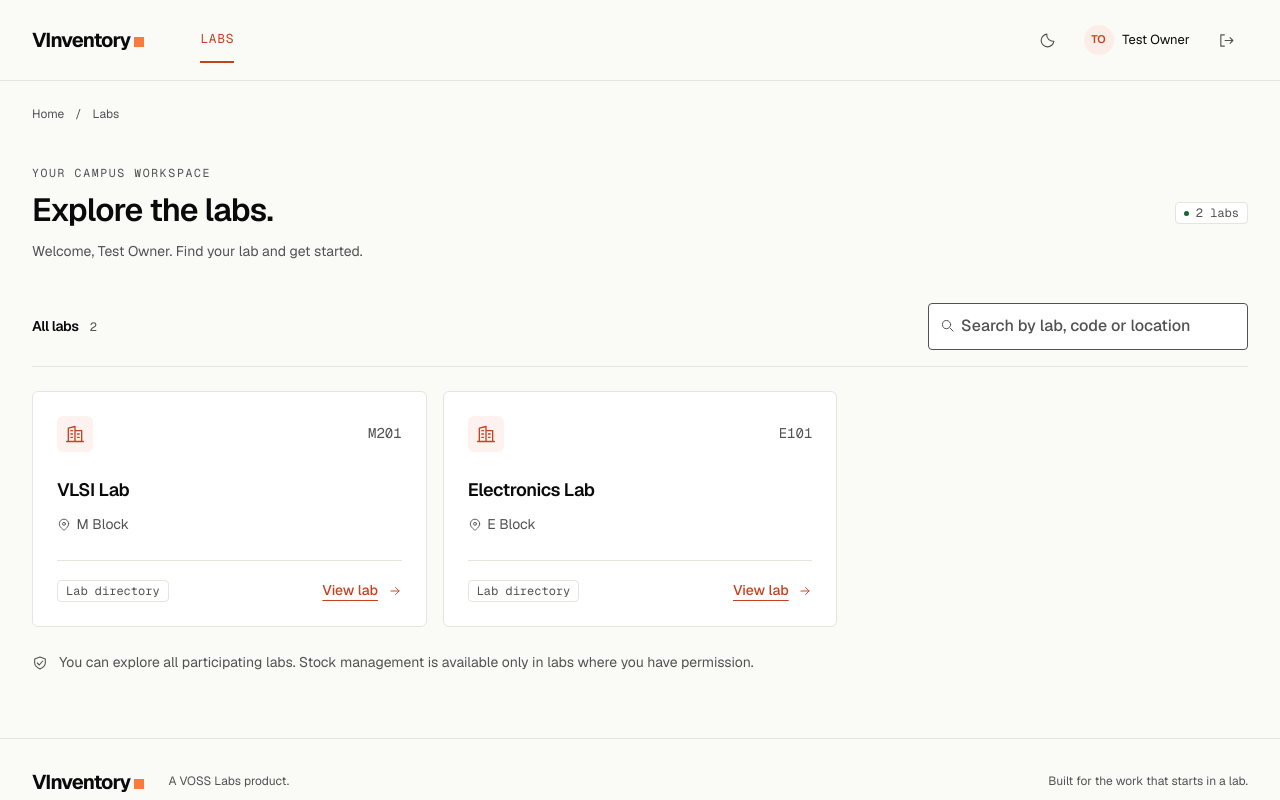
Test: landing and authenticated workspace › loads and filters real lab records after authentication
The width and height of the screenshot is (1280, 800).
Check: the heading "Explore the labs." is shown, box [32,189,273,230]
Step 1. Type "e block" into the search field named "Search labs" → (1088, 326), box [928,303,1248,350]
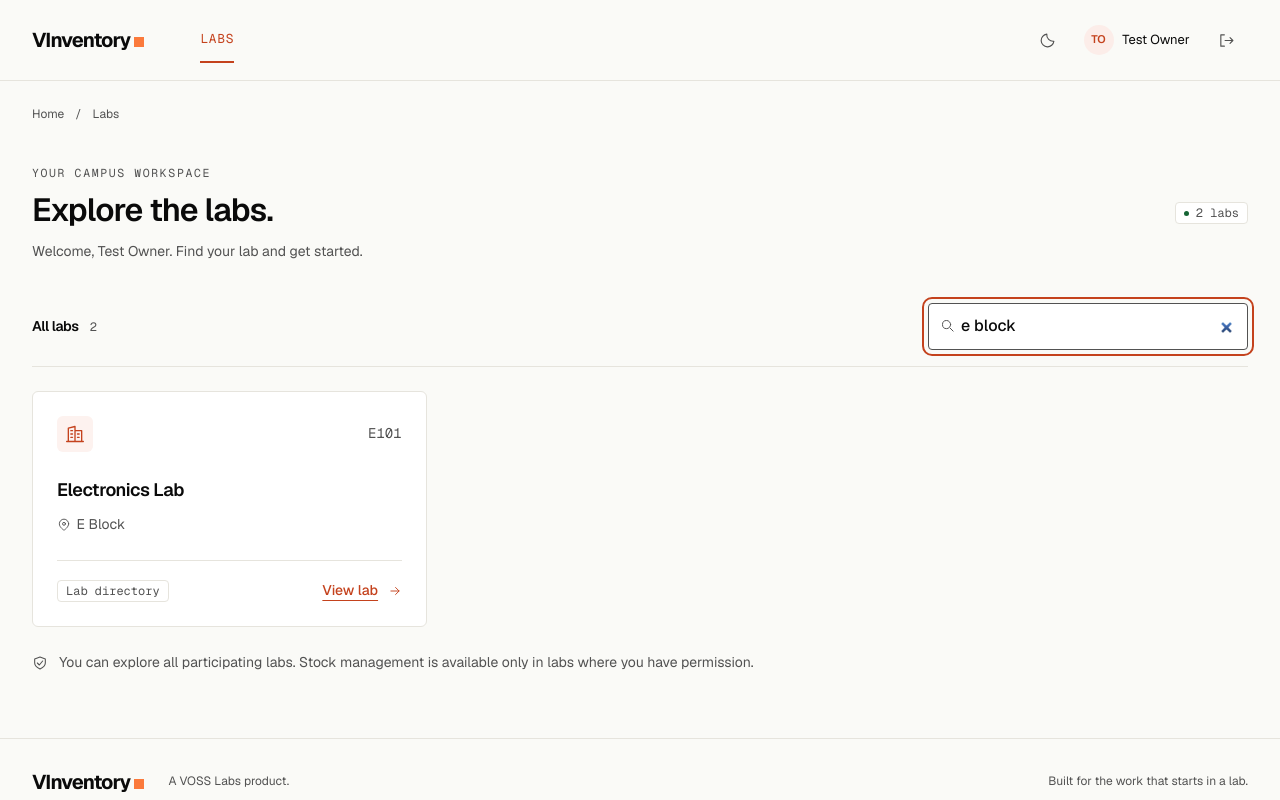
Check: the heading "Electronics Lab" is shown, box [57,478,184,501]
Check: the heading "VLSI Lab" is gone
Step 2. Replace the text in the search field named "Search labs" with "no match" → (1088, 326), box [928,303,1248,350]
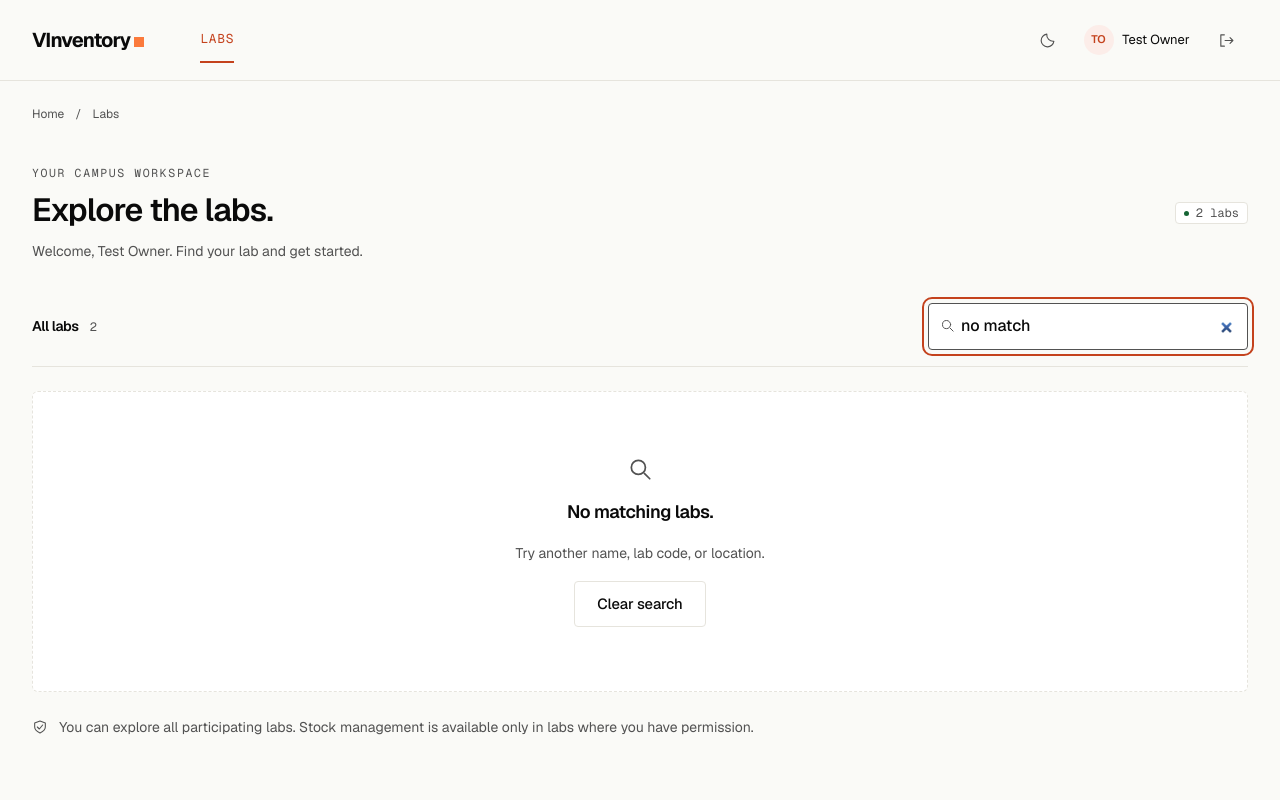
Check: the heading "No matching labs." is shown, box [567,498,713,526]
Step 3. Click the button "Clear search" → (640, 604), box [574,580,706,626]
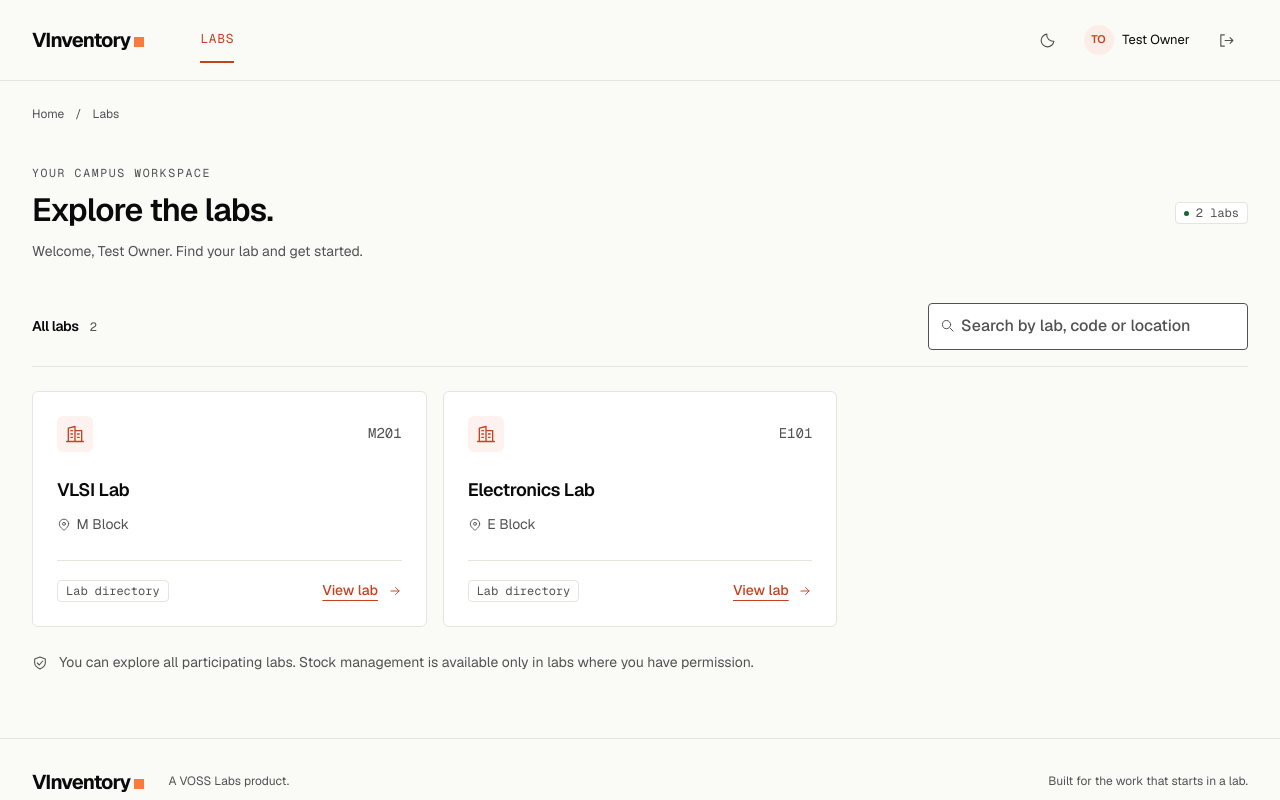
Check: the heading "VLSI Lab" is shown, box [57,478,129,501]
